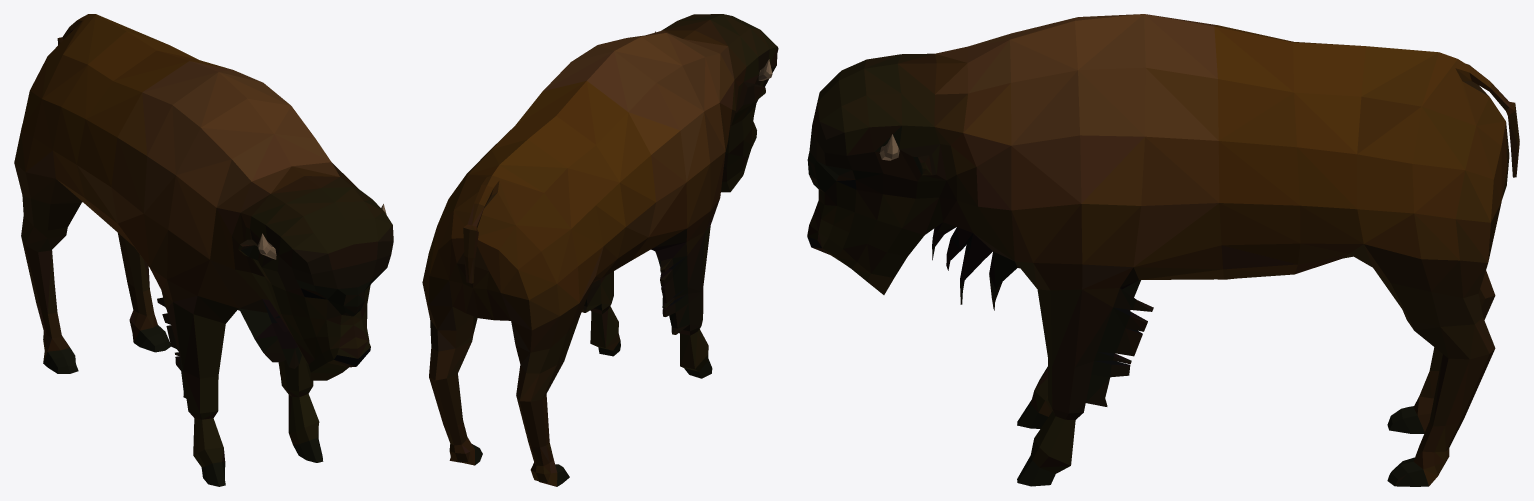
File: bison.glb
3 views of the same model, side by side, from view 1: azimuth 30°, elevation 25°; view 2: azimuth 150°, elevation 25°; view 3: azimuth 270°, elevation 25° (orthographic). The views are drawn at different scales.
Visible parts, largest first — view 1: BisonPlains_mesh; view 2: BisonPlains_mesh; view 3: BisonPlains_mesh.
Part boxes in pixels (x1,y1,x2,y2): BisonPlains_mesh: [14, 14, 393, 486]; BisonPlains_mesh: [422, 14, 778, 486]; BisonPlains_mesh: [807, 14, 1519, 486].
Bounding box in the file's own units: 6.33 × 14.12 × 20.77.
